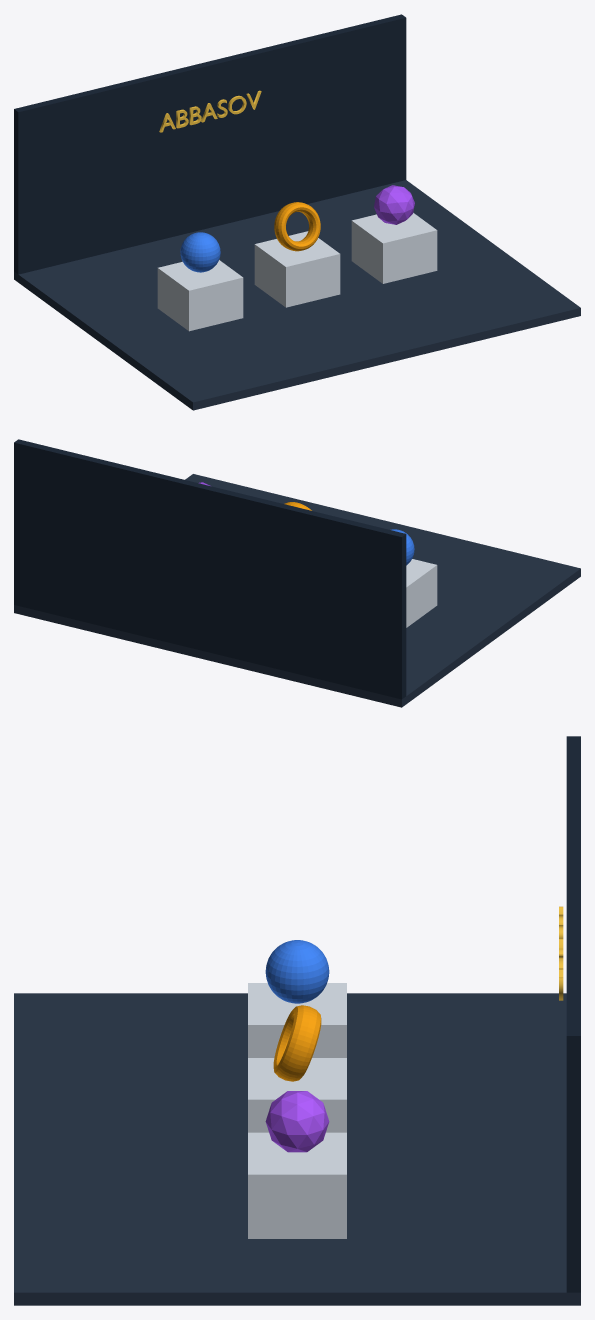
File: lab3.glb
3 renders of one model, top to bottom at view 1: azimuth 30°, elevation 25°; view 2: azimuth 150°, elevation 25°; view 3: azimuth 270°, elevation 25°, orthographic. The views are drawn at different scales.
Parts seen in each view (by area): view 1: Back_wall, Floor, Pedestal_3, Pedestal_2, Pedestal_1, Torus_1, Sphere_1, Icosphere_1, Gallery_title; view 2: Back_wall, Floor, Pedestal_1; view 3: Floor, Pedestal_3, Back_wall, Pedestal_1, Pedestal_2, Sphere_1, Icosphere_1, Torus_1.
Boxes of the visible parts, <box> form: Back_wall: <box>14,14,406,274</box>; Floor: <box>14,180,580,410</box>; Pedestal_3: <box>351,213,437,283</box>; Pedestal_2: <box>254,231,340,307</box>; Pedestal_1: <box>157,260,243,331</box>; Torus_1: <box>274,202,320,251</box>; Sphere_1: <box>180,232,220,272</box>; Icosphere_1: <box>374,185,414,224</box>; Gallery_title: <box>159,90,261,132</box>; Back_wall: <box>14,439,406,699</box>; Floor: <box>14,474,580,707</box>; Pedestal_1: <box>406,559,437,627</box>; Floor: <box>14,993,580,1305</box>; Pedestal_3: <box>248,1132,346,1238</box>; Back_wall: <box>566,736,580,1292</box>; Pedestal_1: <box>248,983,346,1057</box>; Pedestal_2: <box>248,1058,346,1132</box>; Sphere_1: <box>265,940,329,1003</box>; Icosphere_1: <box>265,1091,329,1152</box>; Torus_1: <box>273,1005,321,1081</box>.
Size of the model in its own units: 10 by 4.2 by 8.
